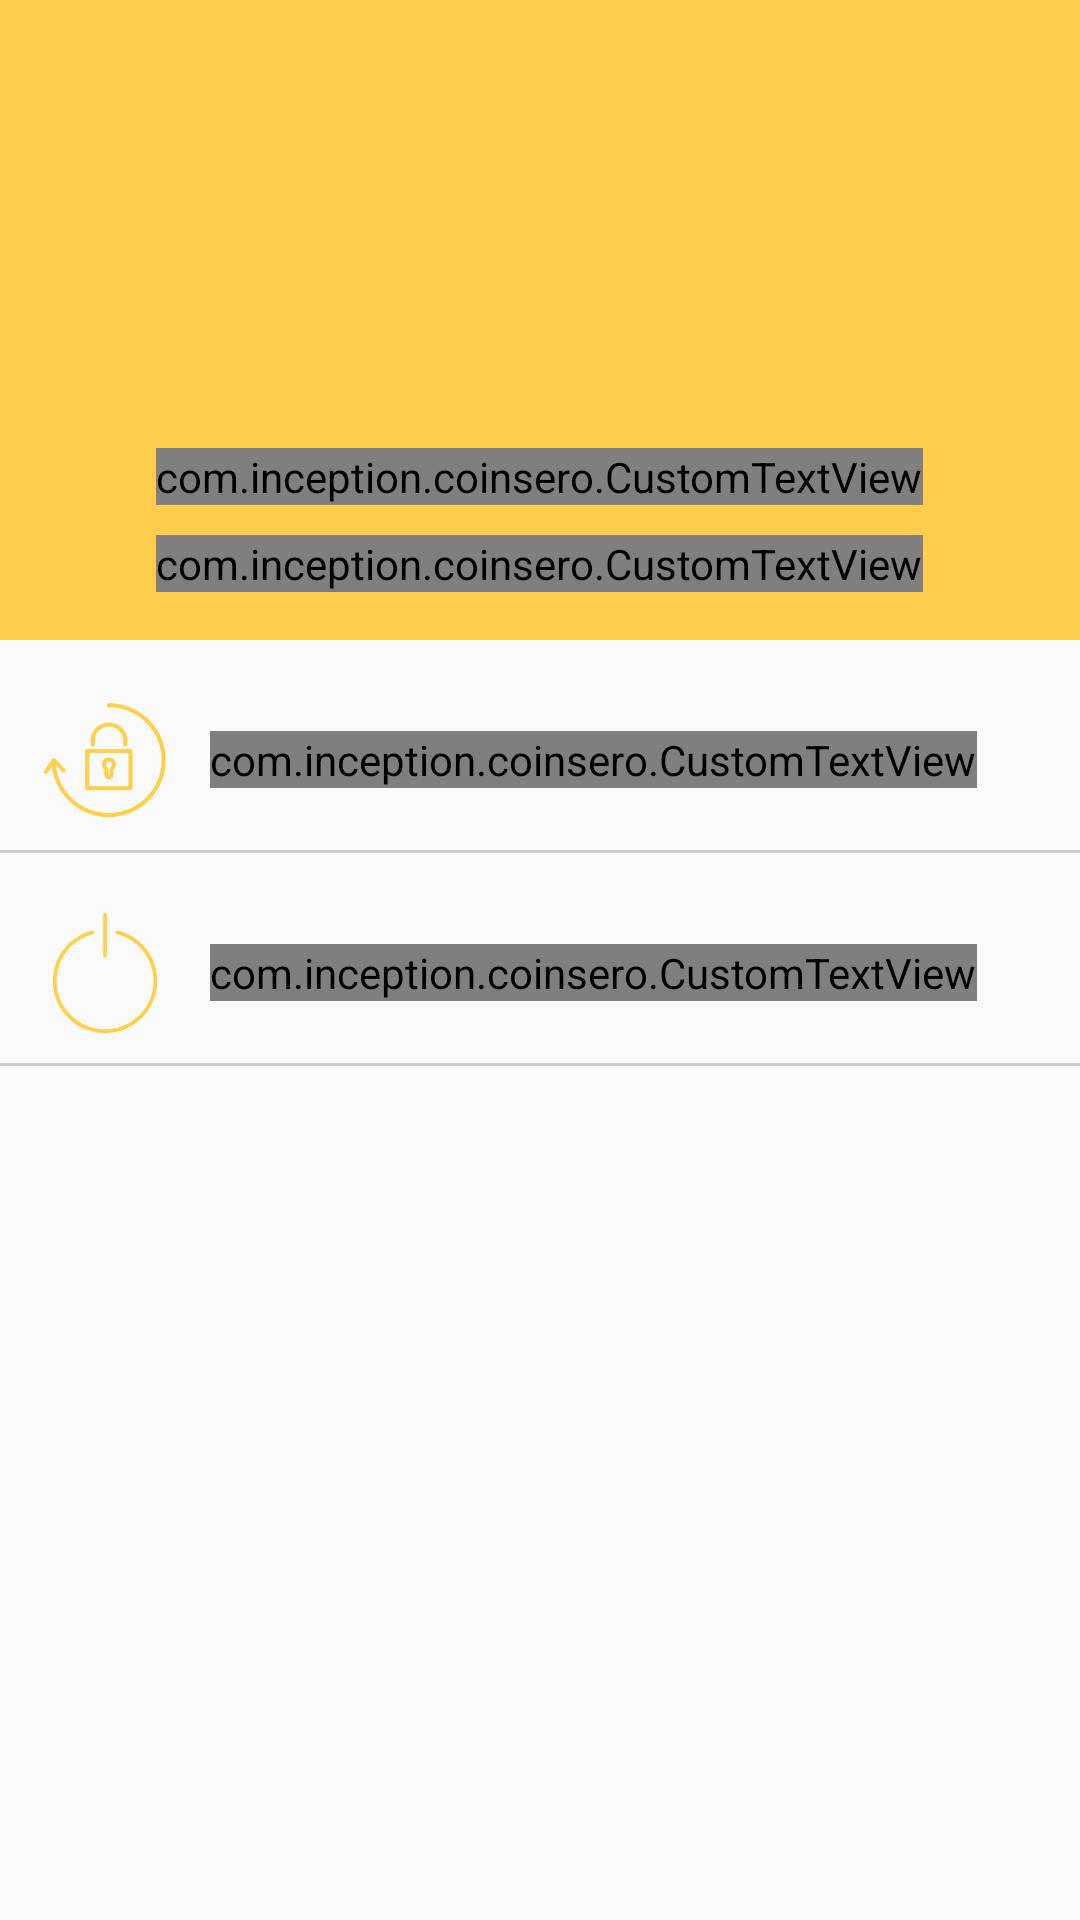

Icon click points for this 1080 x 1920 phone screenshot, format (x,y):
change password: (104,760)
